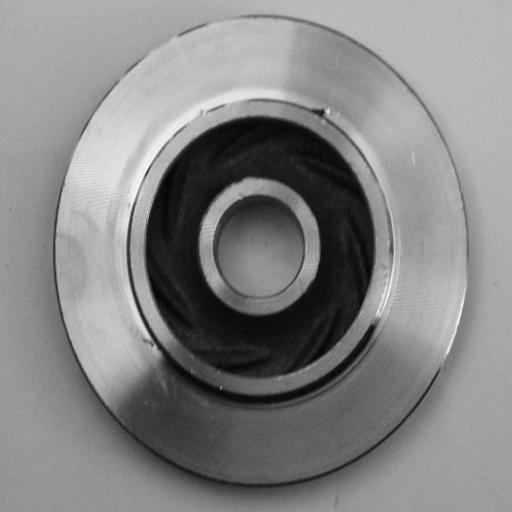crack: (135, 325, 170, 361), (304, 99, 343, 129)
unpolished_casting: (50, 14, 472, 491)
